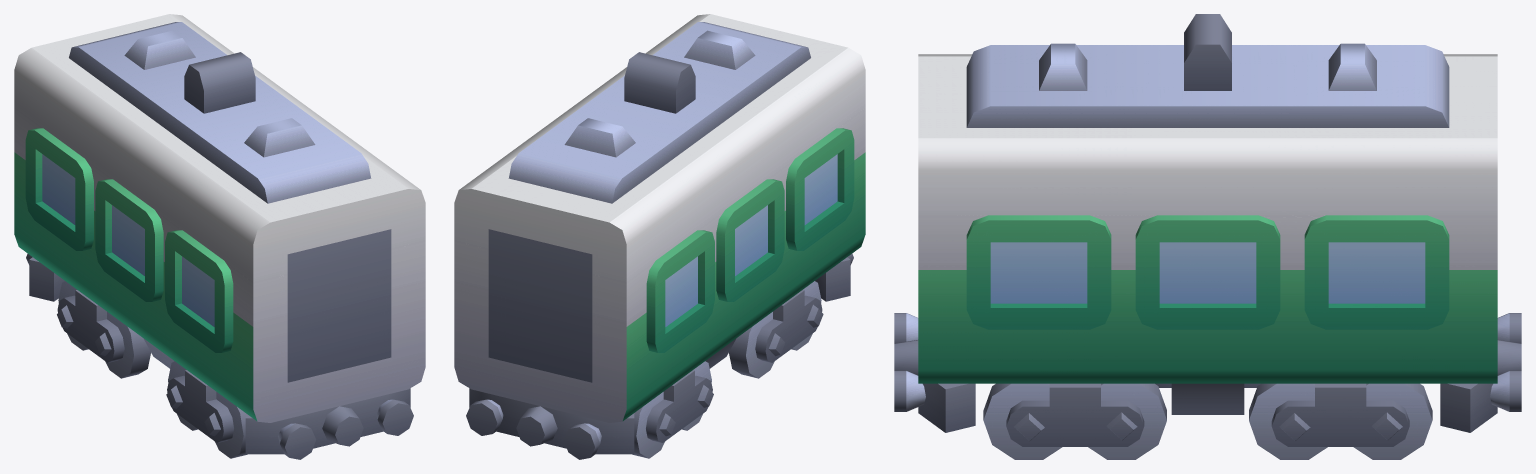
The model's file is train-electric-square-c.glb.
3 renders of one model, left to right at view 1: azimuth 30°, elevation 25°; view 2: azimuth 150°, elevation 25°; view 3: azimuth 270°, elevation 25°, orthographic. The views are drawn at different scales.
Visible parts, largest first — view 1: train-electric-square-c; view 2: train-electric-square-c; view 3: train-electric-square-c.
Boxes of the visible parts, x1,y1,x2,y2 form: train-electric-square-c: (14, 14, 425, 459); train-electric-square-c: (454, 14, 865, 459); train-electric-square-c: (894, 14, 1521, 459).
Size of the model in its own units: 1.1 by 1.78 by 2.6.
1 material, 1 textured.
